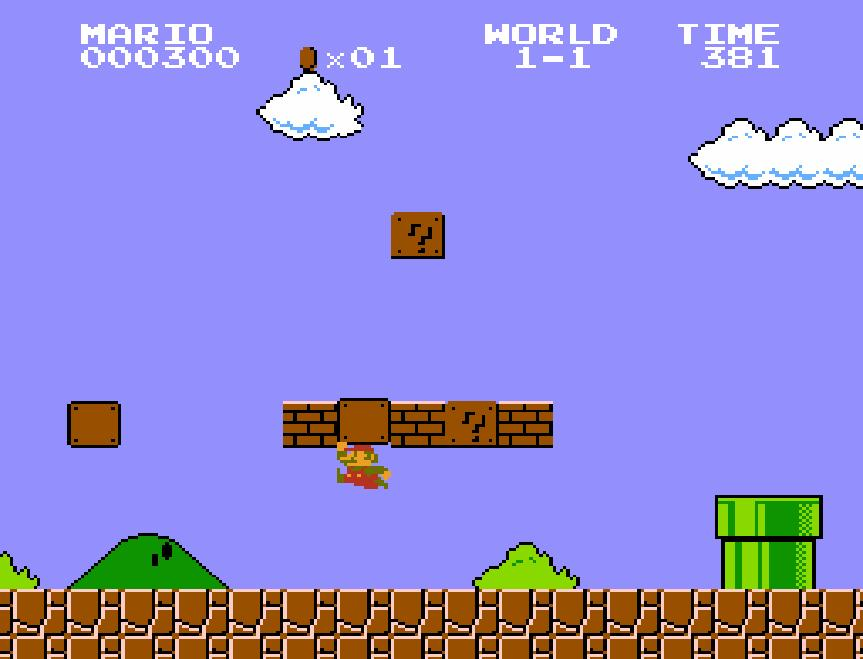little_mario: (335, 440, 393, 490)
